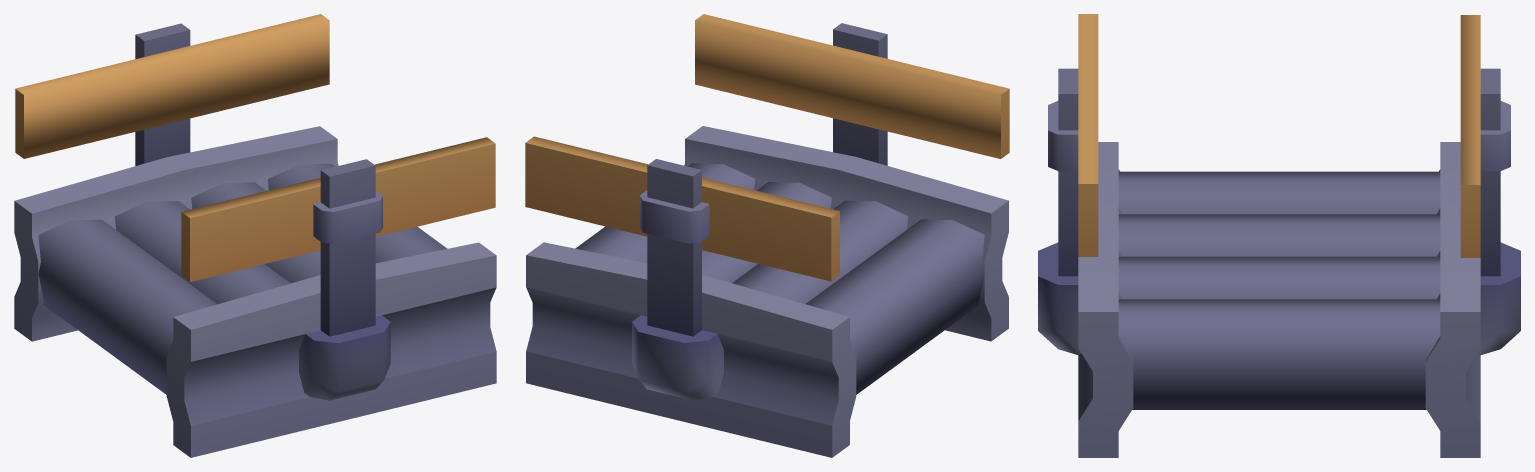
File: conveyor-bars-fence.glb
The picture shows the model from 3 angles, left to right: view 1: azimuth 30°, elevation 25°; view 2: azimuth 150°, elevation 25°; view 3: azimuth 270°, elevation 25°; orthographic projection. The views are drawn at different scales.
Visible parts, largest first — view 1: conveyor-bars-fence; view 2: conveyor-bars-fence; view 3: conveyor-bars-fence.
Boxes of the visible parts, box(x1,y1,x2,y2) form: conveyor-bars-fence: box(14, 14, 496, 457); conveyor-bars-fence: box(525, 14, 1009, 457); conveyor-bars-fence: box(1038, 14, 1520, 457).
Size of the model in its own units: 1.01 by 0.8 by 1.2.
